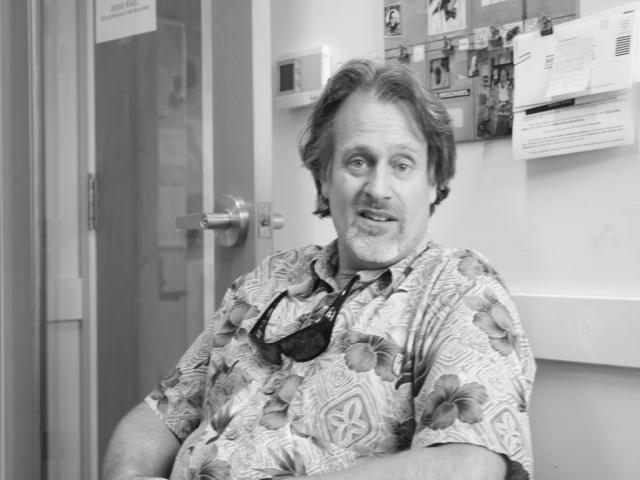Door-handle: (175, 194, 249, 250), (272, 213, 285, 231)
